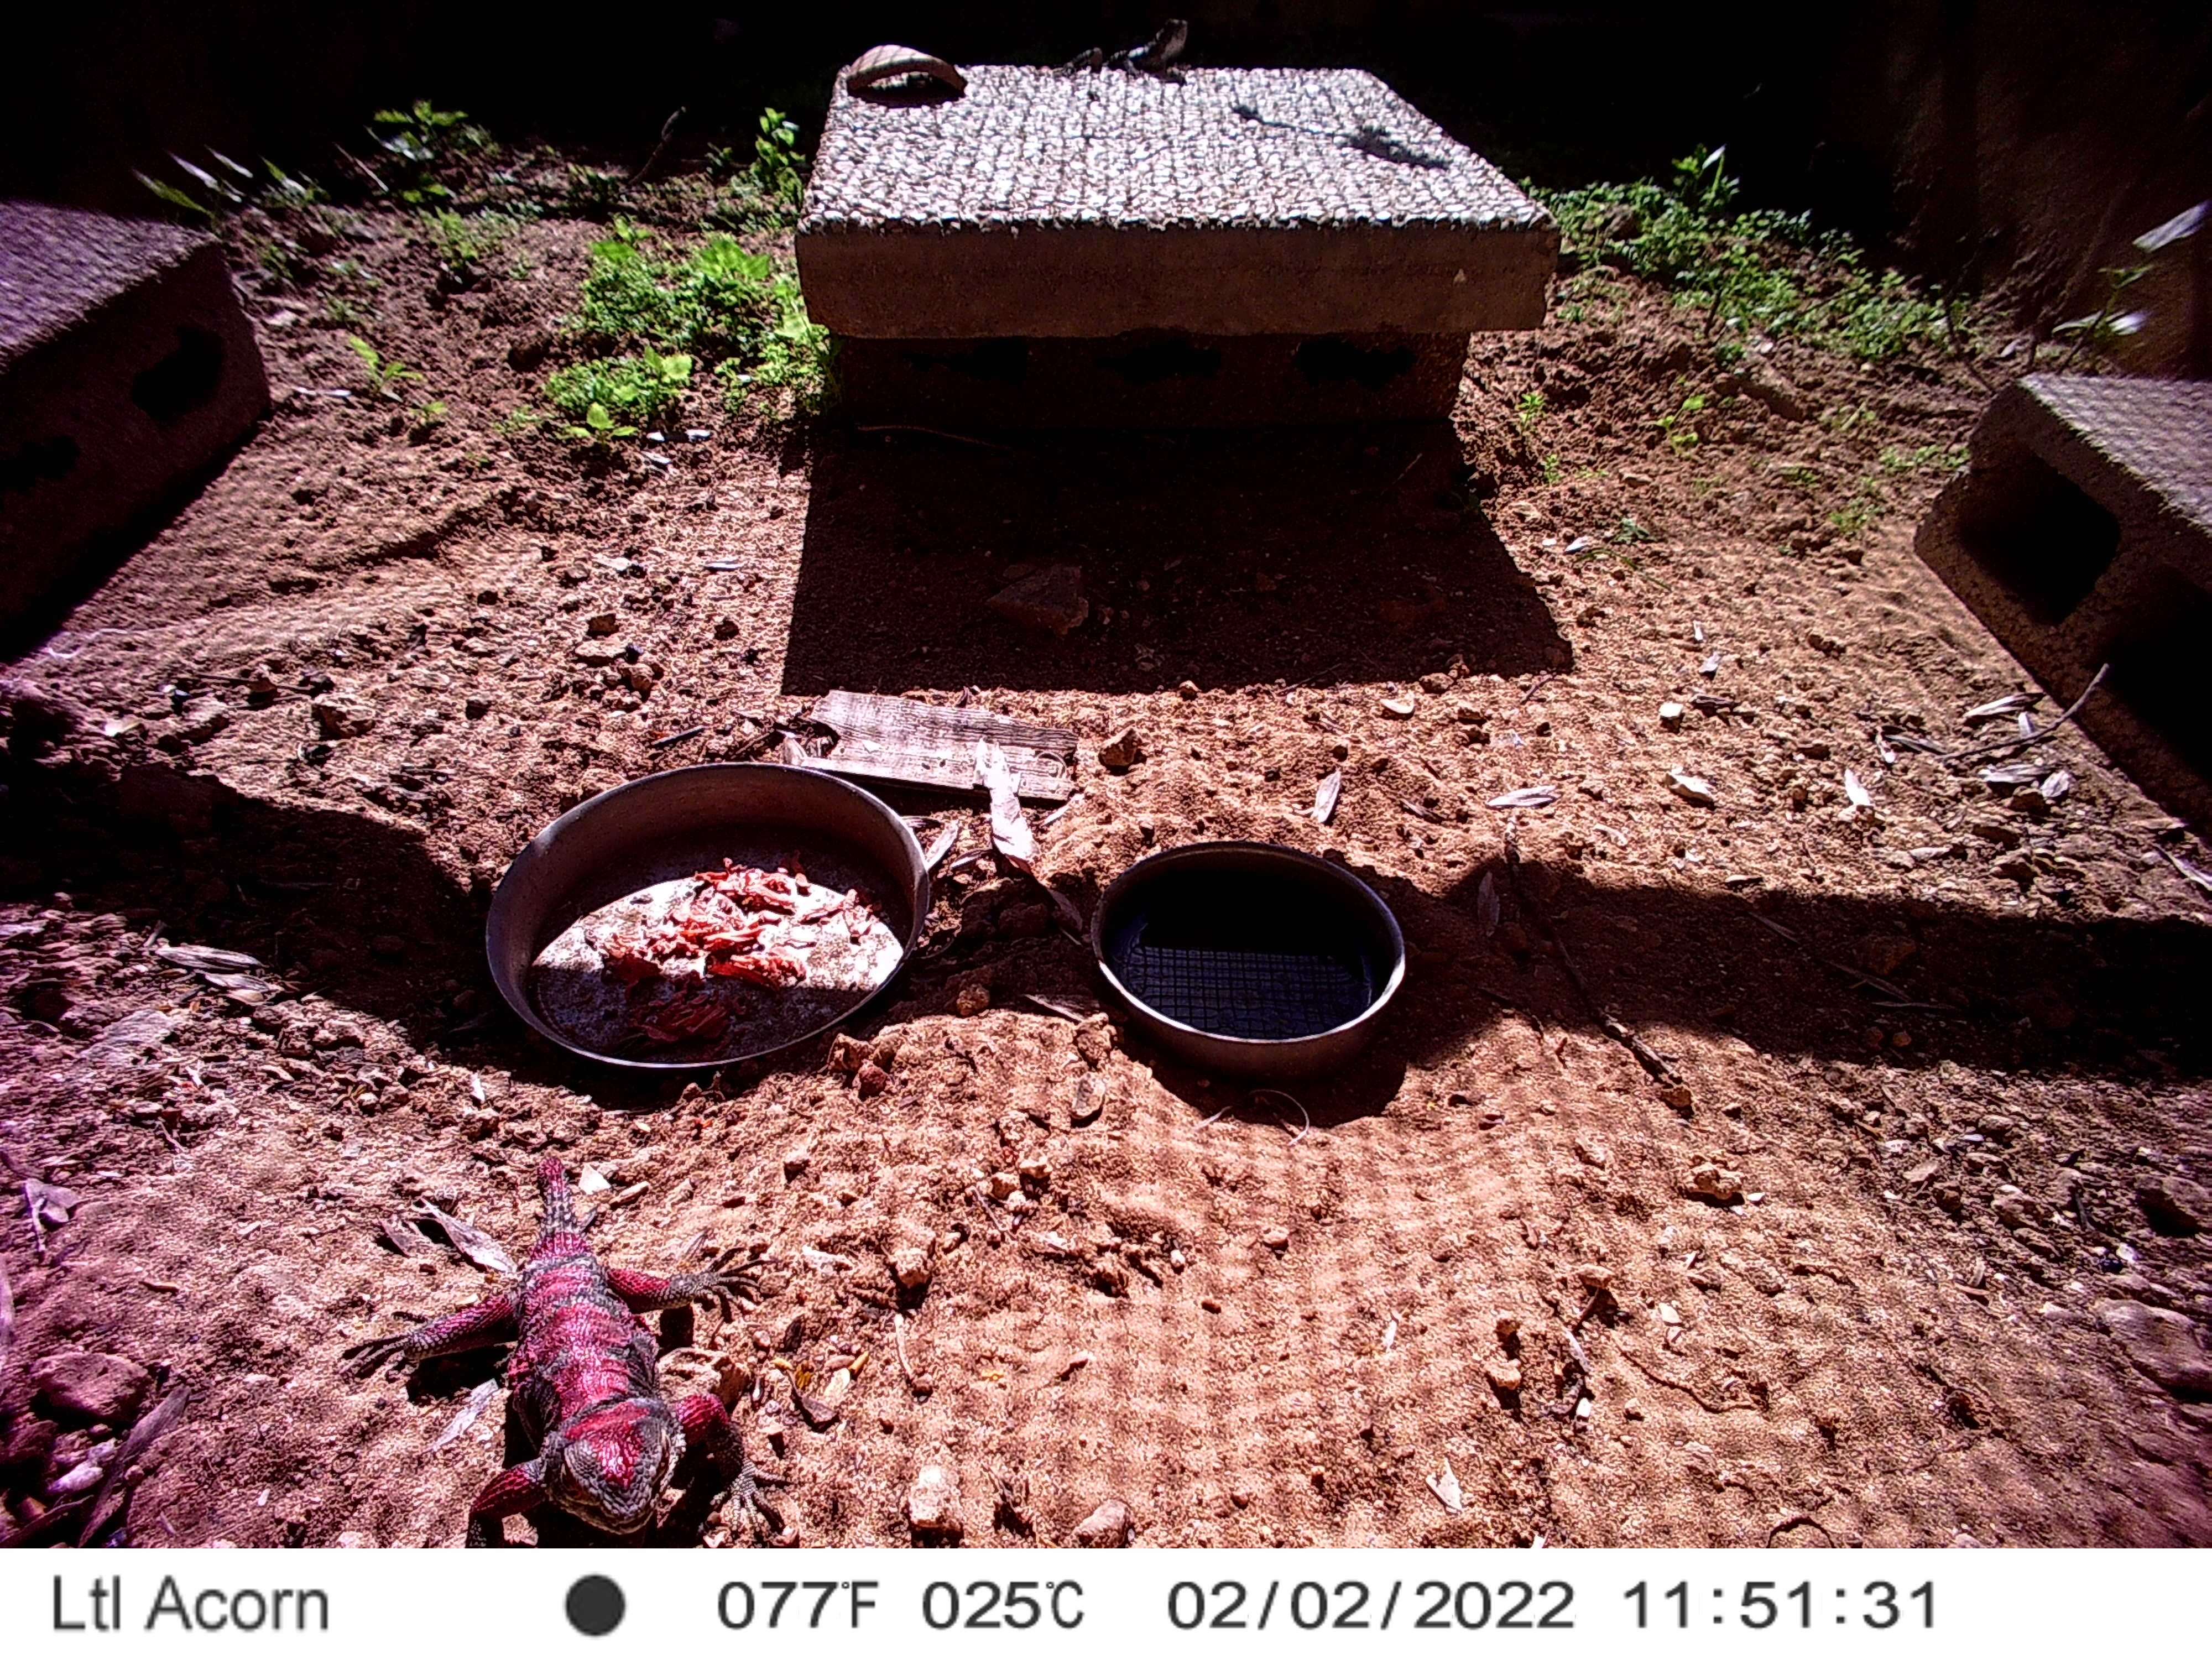lizard: (599, 1202, 1137, 1460), (1242, 645, 1388, 714)
